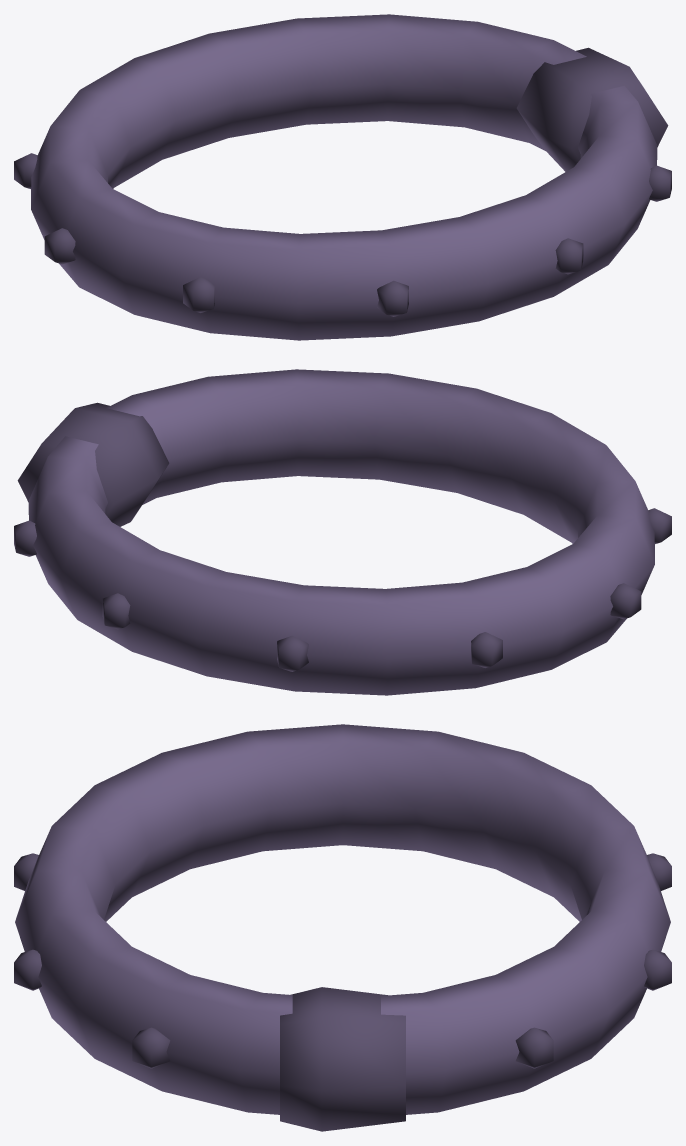
File: iron_bracelet.glb
The picture shows the model from 3 angles, top to bottom: view 1: azimuth 30°, elevation 25°; view 2: azimuth 150°, elevation 25°; view 3: azimuth 270°, elevation 25°; orthographic projection. The views are drawn at different scales.
Visible parts, largest first — view 1: iron_bracelet; view 2: iron_bracelet; view 3: iron_bracelet.
Part boxes in pixels (x1,y1,x2,y2): iron_bracelet: [14, 14, 671, 340]; iron_bracelet: [14, 369, 671, 695]; iron_bracelet: [14, 724, 671, 1131].
Size of what is drawn, in the model's own units: 0.075 by 0.012 by 0.063.
